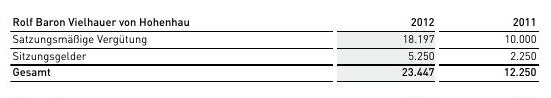table: (0, 0, 551, 98)
